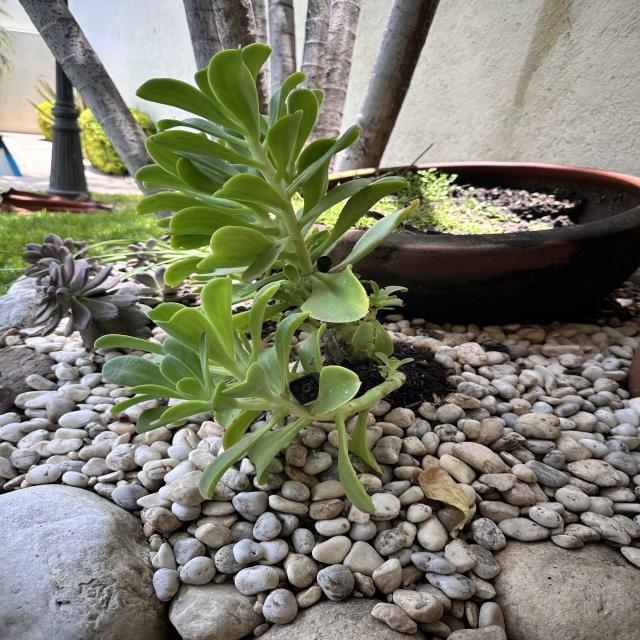hidden camera: (300, 384, 313, 393)
